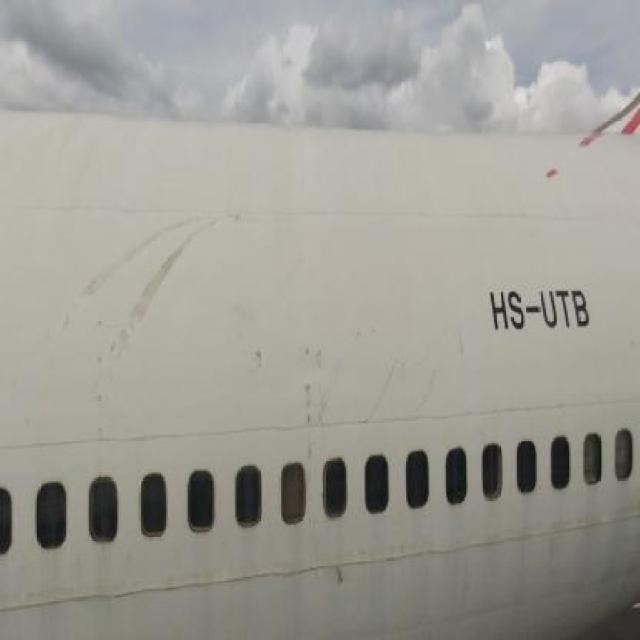Scartch: (296, 338, 332, 456), (92, 297, 111, 466), (331, 550, 367, 599)
